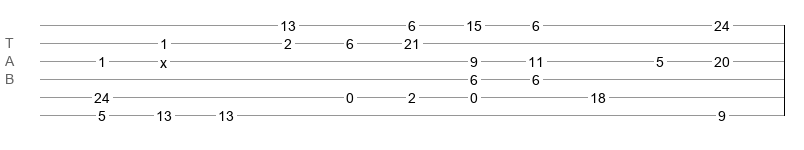0: (346, 90, 354, 100), (470, 90, 478, 100)
1: (98, 54, 106, 64), (160, 36, 168, 46)
11: (528, 54, 544, 64)
13: (156, 108, 172, 118), (218, 108, 234, 118), (280, 18, 296, 28)
15: (466, 18, 482, 28)
18: (590, 90, 606, 100)
2: (284, 36, 292, 46), (408, 90, 416, 100)
20: (714, 54, 730, 64)
21: (404, 36, 420, 46)
24: (94, 90, 110, 100), (714, 18, 730, 28)
5: (98, 108, 106, 118), (656, 54, 664, 64)
6: (346, 36, 354, 46), (408, 18, 416, 28), (470, 72, 478, 82), (532, 72, 540, 82), (532, 18, 540, 28)
9: (470, 54, 478, 64), (718, 108, 726, 118)
x: (160, 55, 167, 63)
